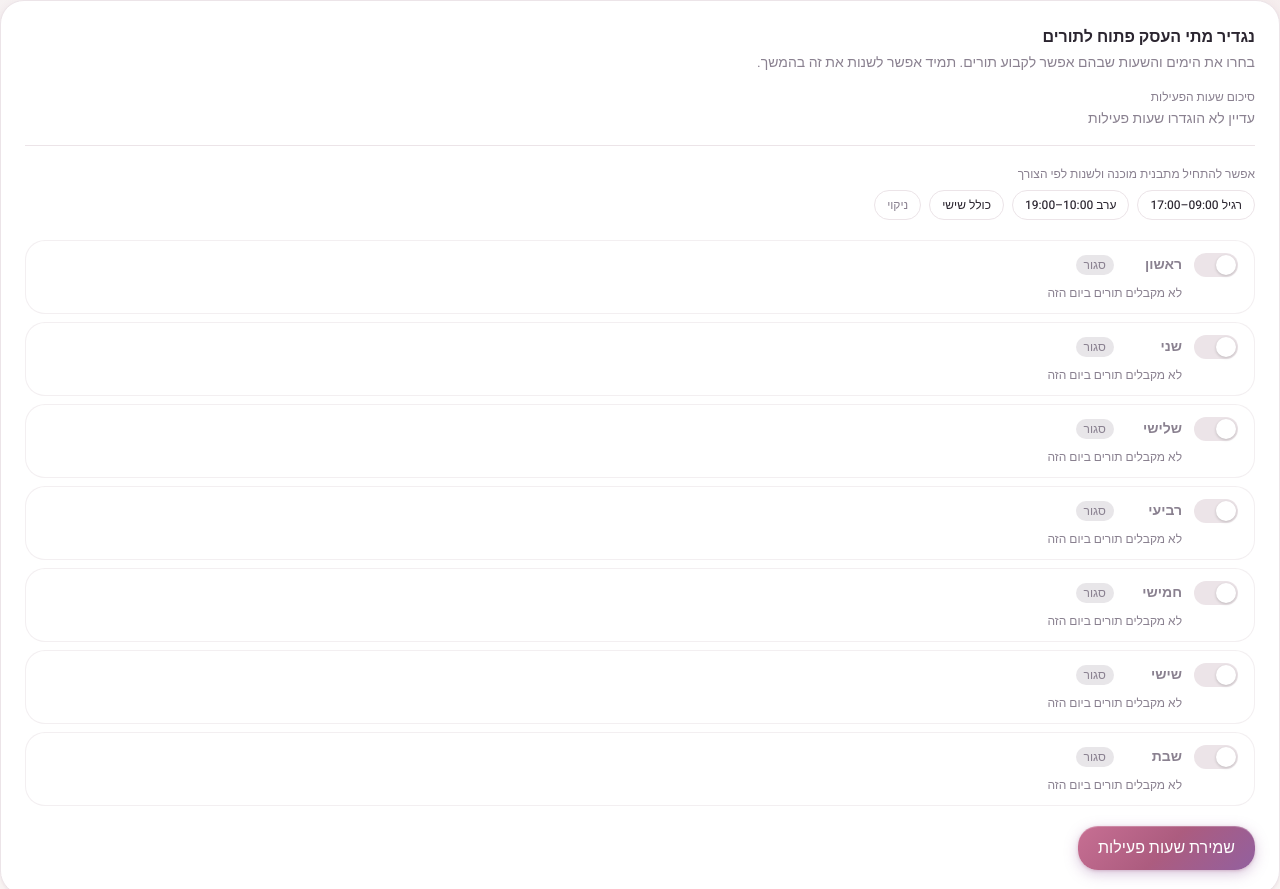
Test: WeeklyAvailabilityForm › renders the form-level error from the action
What coordinates should you click on to do the following:
click the button "שמירת שעות פעילות"
I would click on:
 (1166, 848)
Its box is top-left (1078, 826), bottom-right (1255, 870).
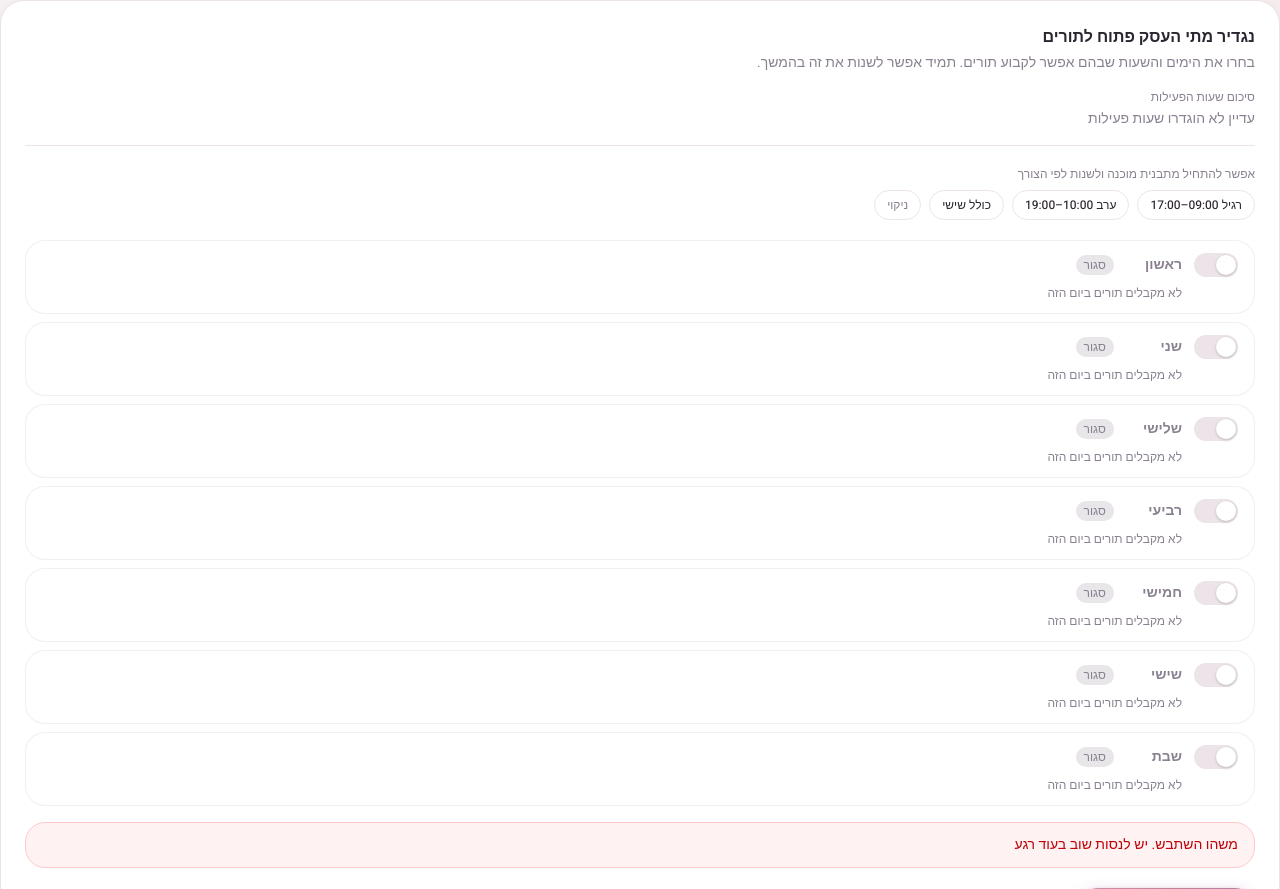
expect the text "משהו השתבש. יש לנסות שוב בעוד רגע" is shown: met, box top-left (25, 822), bottom-right (1255, 868)
